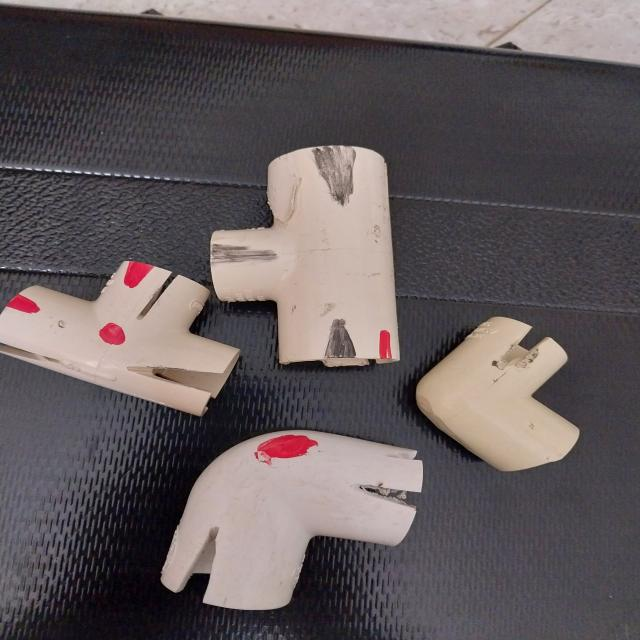Defective: (314, 146, 363, 208), (181, 529, 223, 599), (134, 364, 220, 396), (354, 482, 424, 514), (325, 318, 360, 366), (142, 278, 180, 321), (213, 247, 278, 266), (259, 440, 311, 460), (100, 323, 128, 348), (4, 297, 40, 315), (124, 263, 151, 284), (377, 330, 393, 362)
L Joint: (158, 430, 424, 608), (417, 322, 577, 475)
T Joint: (206, 147, 394, 368), (1, 251, 248, 419)
